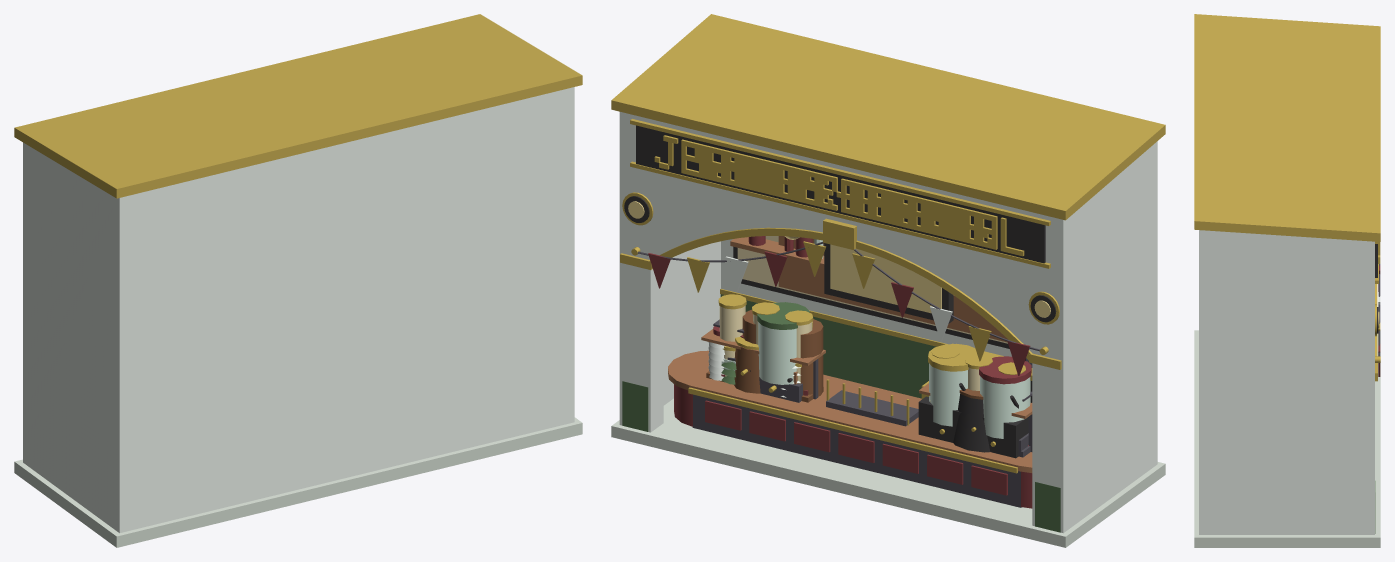
The model's file is downs-stalls.glb.
3 renders of one model, left to right at view 1: azimuth 30°, elevation 25°; view 2: azimuth 150°, elevation 25°; view 3: azimuth 270°, elevation 25°, orthographic. The views are drawn at different scales.
Visible parts, largest first — view 1: dn_stall_0_mint, dn_stall_0_cornice, dn_stall_0_mint2; view 2: dn_stall_0_mint, dn_stall_0_cornice, dn_stall_0_gold, dn_stall_0_mint2, dn_stall_10_saddle, dn_stall_0_money2, dn_stall_11_accent, dn_stall_0_black, dn_stall_0_black2, dn_stall_6_glowmint, dn_stall_6_money2, dn_stall_5_glowgold (+28 smaller); view 3: dn_stall_0_mint, dn_stall_0_cornice, dn_stall_0_mint2, dn_stall_0_gold.
Boxes of the visible parts, x1,y1,x2,y2 form: dn_stall_0_mint: [23, 87, 574, 533]; dn_stall_0_cornice: [14, 14, 582, 198]; dn_stall_0_mint2: [14, 417, 582, 547]; dn_stall_0_mint: [619, 112, 1157, 533]; dn_stall_0_cornice: [611, 14, 1165, 220]; dn_stall_0_gold: [620, 119, 1061, 473]; dn_stall_0_mint2: [611, 398, 1165, 547]; dn_stall_10_saddle: [668, 236, 1032, 472]; dn_stall_0_money2: [622, 294, 1060, 532]; dn_stall_11_accent: [674, 237, 1032, 508]; dn_stall_0_black: [625, 125, 1055, 344]; dn_stall_0_black2: [692, 394, 1021, 507]; dn_stall_6_glowmint: [758, 322, 1030, 438]; dn_stall_6_money2: [622, 295, 1060, 529]; dn_stall_5_glowgold: [628, 201, 1050, 313]; dn_stall_0_mint: [1199, 230, 1374, 534]; dn_stall_0_cornice: [1194, 14, 1380, 241]; dn_stall_0_mint2: [1194, 330, 1380, 547]; dn_stall_0_gold: [1375, 241, 1380, 381].
Bounding box in the file's own units: 10.24 × 7.54 × 3.9.
